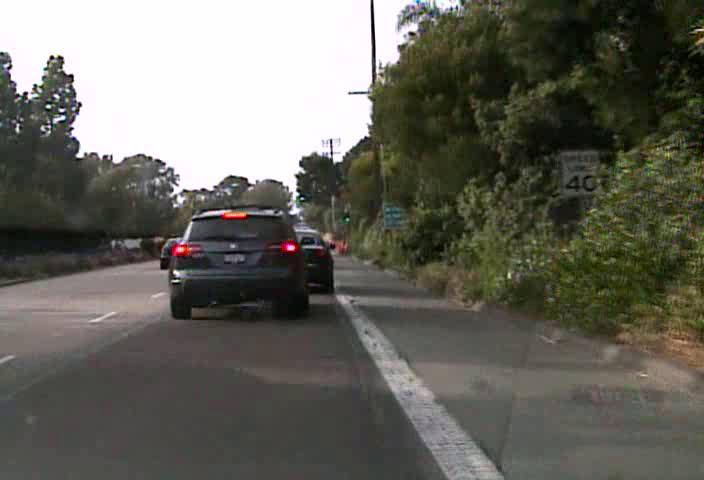speedLimit40: (558, 149, 603, 197)
